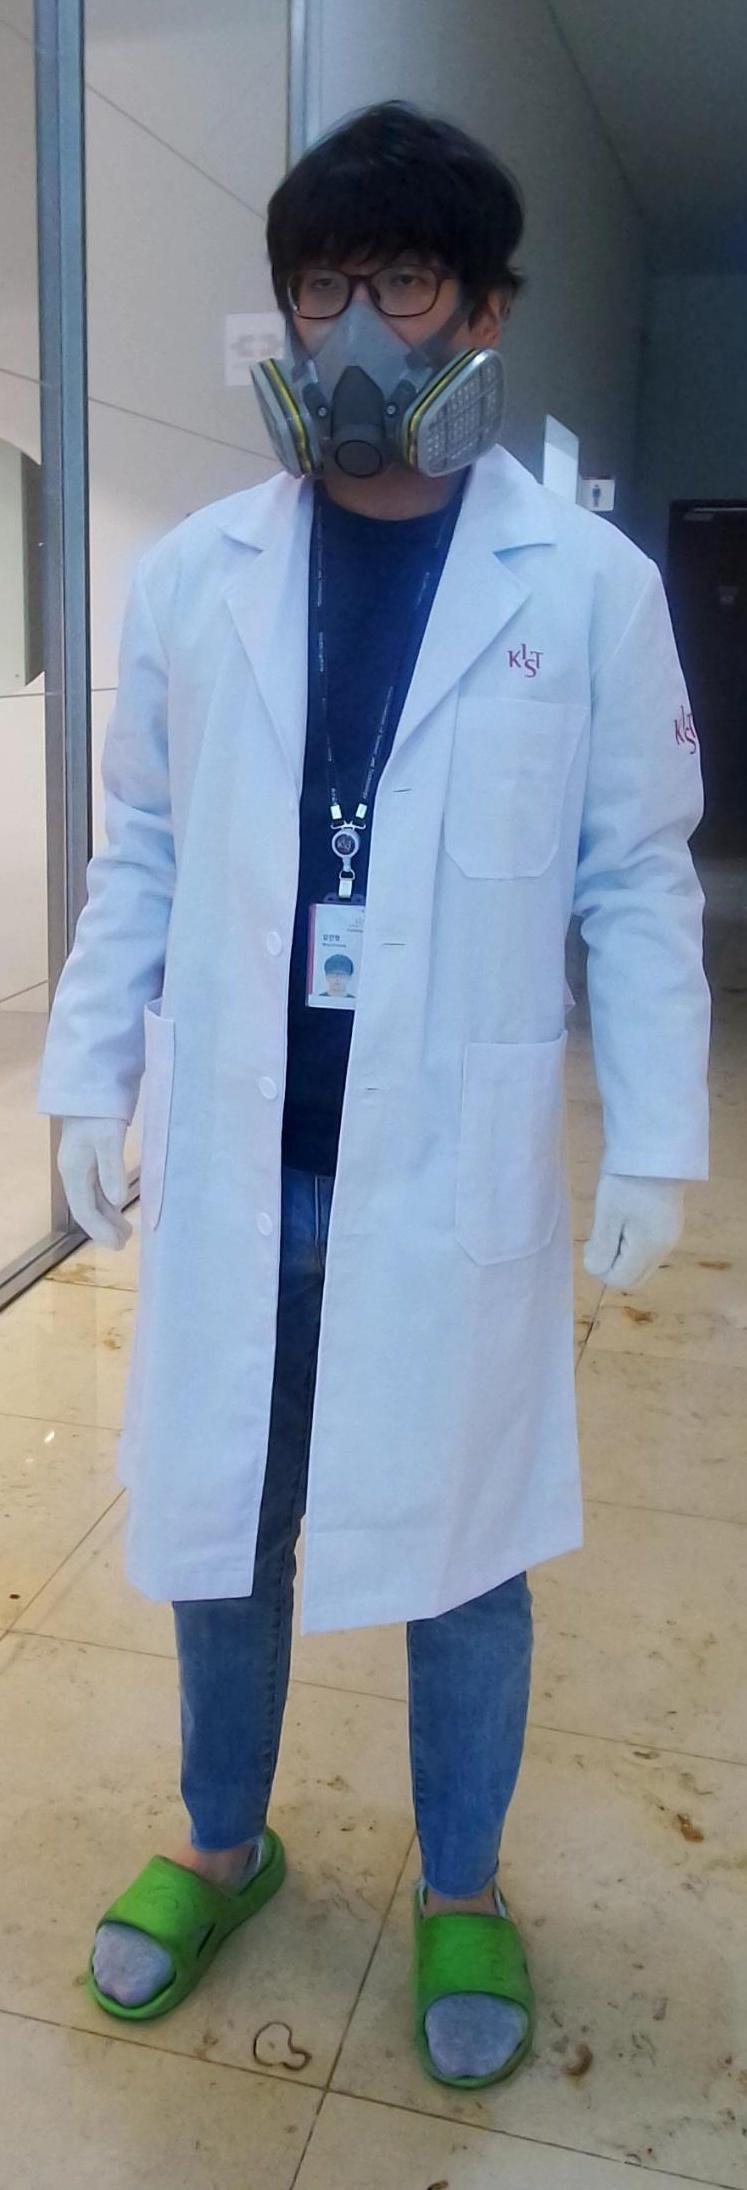lab_coat: (144, 486, 612, 1575)
